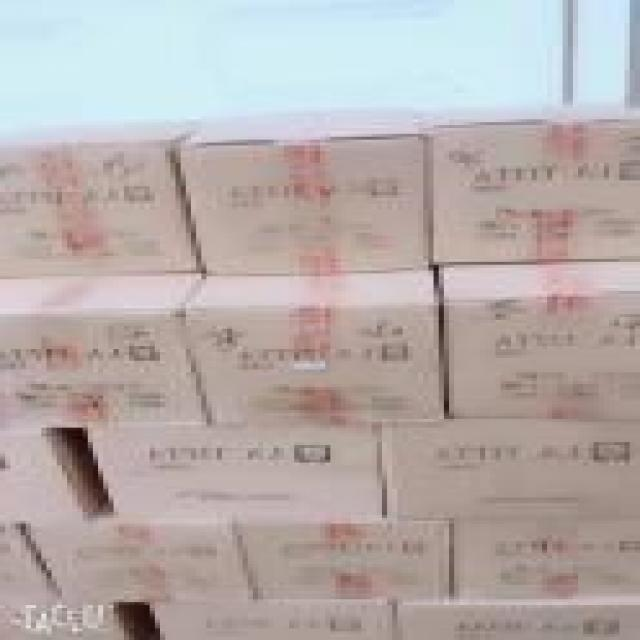box: (179, 262, 459, 439), (179, 112, 441, 268), (0, 262, 222, 434), (0, 118, 219, 279), (421, 107, 640, 266), (84, 422, 393, 530), (446, 257, 640, 419), (371, 410, 640, 517), (230, 508, 460, 604), (44, 516, 259, 607), (446, 507, 640, 602)
